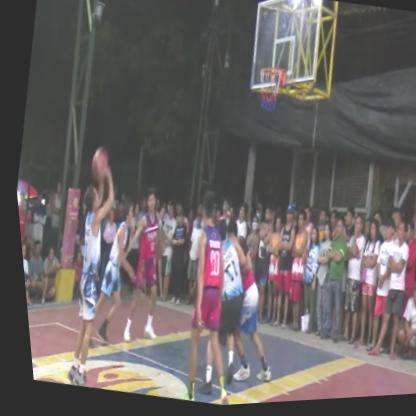basketball: (81, 143, 113, 193)
rim: (245, 57, 290, 124)
